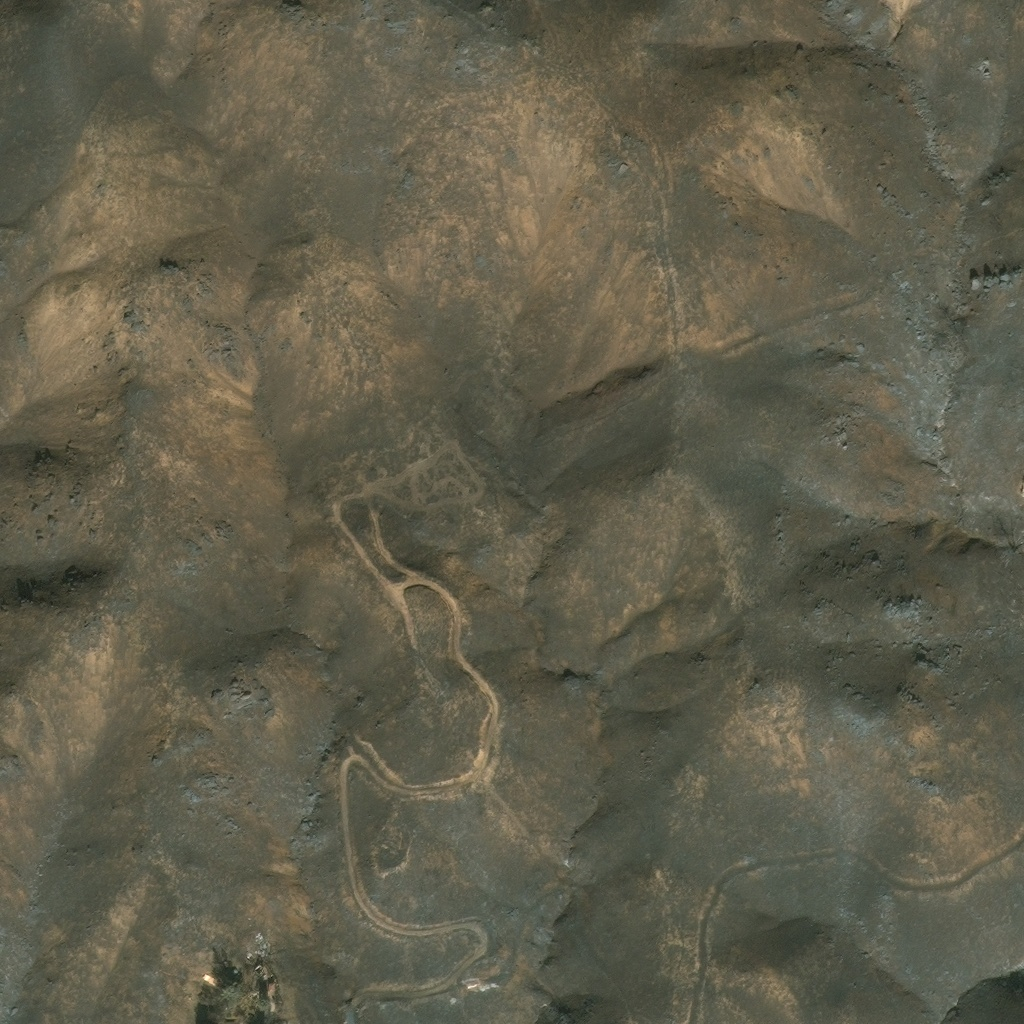3 destroyed: (255, 940, 272, 958), (229, 970, 243, 977), (497, 984, 507, 993), (263, 1012, 269, 1023)
